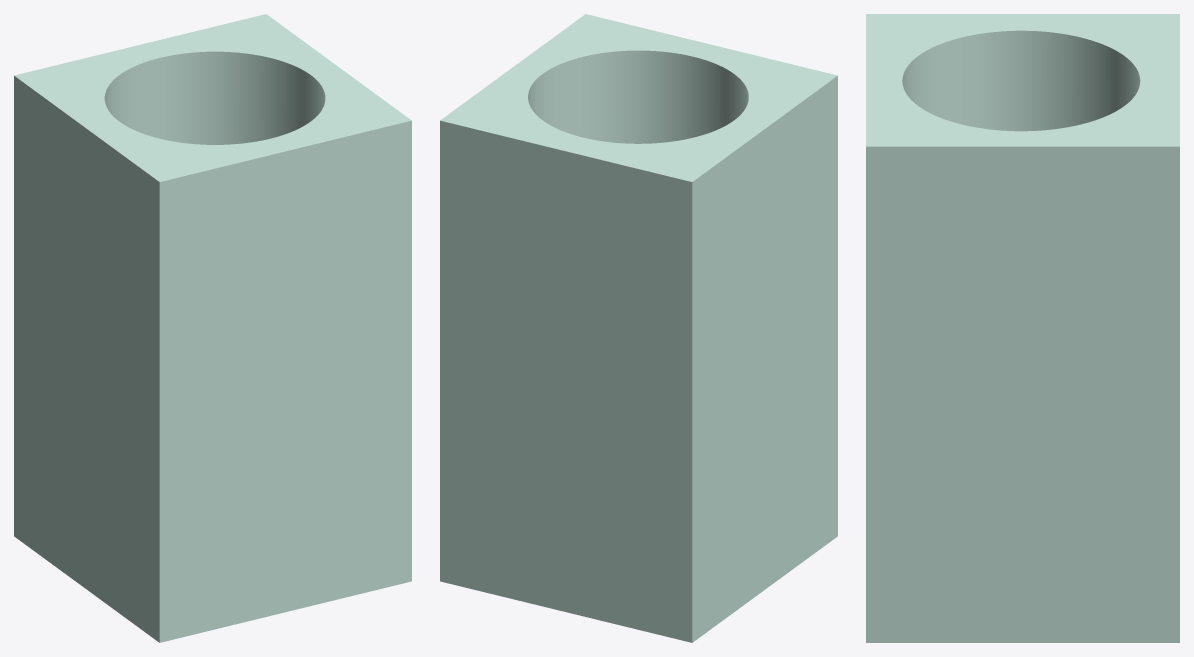
The picture shows the model from 3 angles, left to right: view 1: azimuth 30°, elevation 25°; view 2: azimuth 150°, elevation 25°; view 3: azimuth 270°, elevation 25°; orthographic projection. The views are drawn at different scales.
Parts seen in each view (by area): view 1: Renderer Node; view 2: Renderer Node; view 3: Renderer Node.
Part boxes in pixels (x1,y1,x2,y2): Renderer Node: (14,14,411,642); Renderer Node: (440,14,837,642); Renderer Node: (866,14,1179,642).
Size of the model in its own units: 0.4297 by 0.75 by 0.4297.
